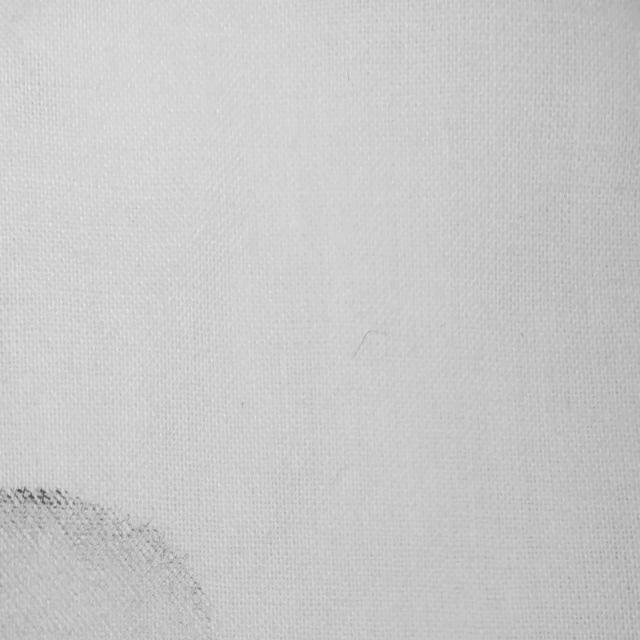Stain: (0, 488, 213, 640)
